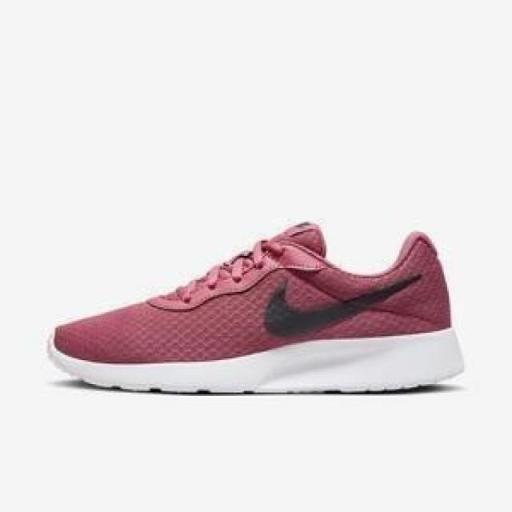Nike: (261, 272, 423, 340)
